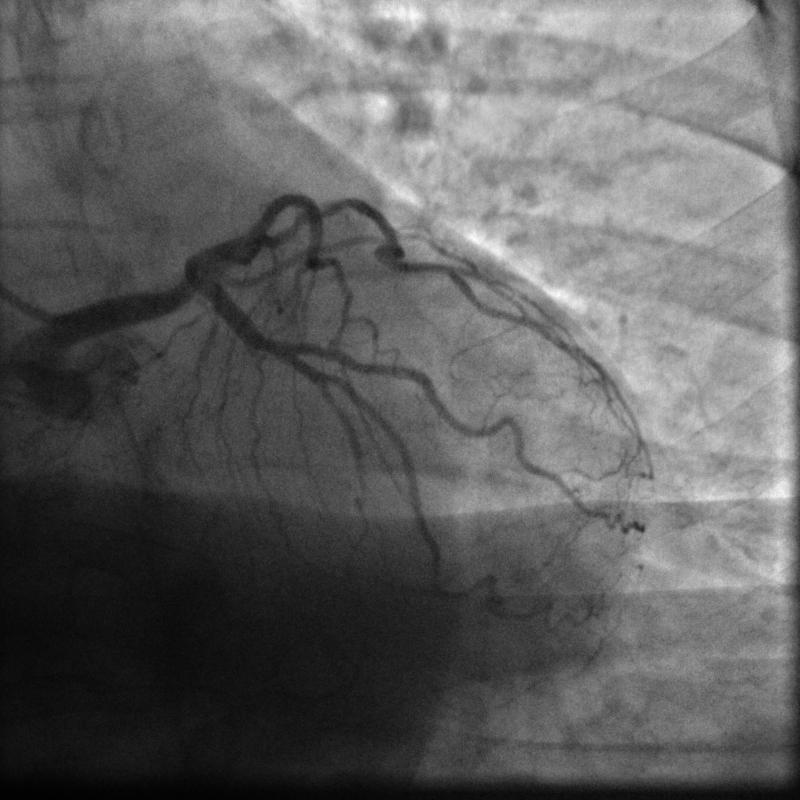Stenosis: (252, 319, 288, 373)
